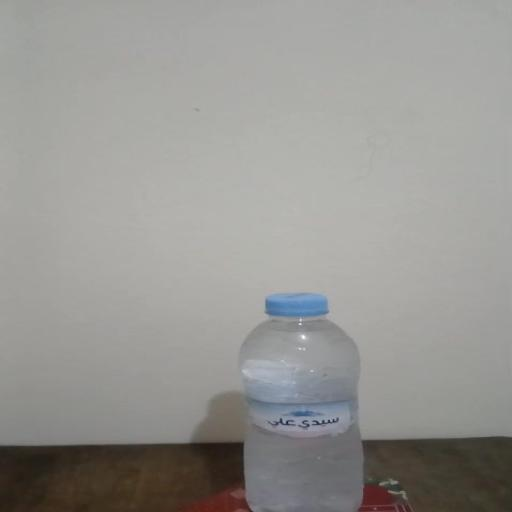bouteille conformite: (244, 282, 384, 512)
